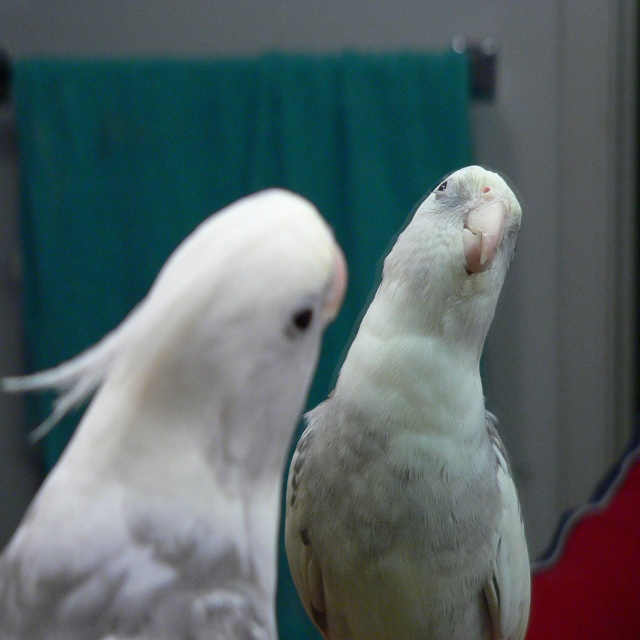Parrot: (0, 187, 348, 640), (285, 165, 530, 640)
